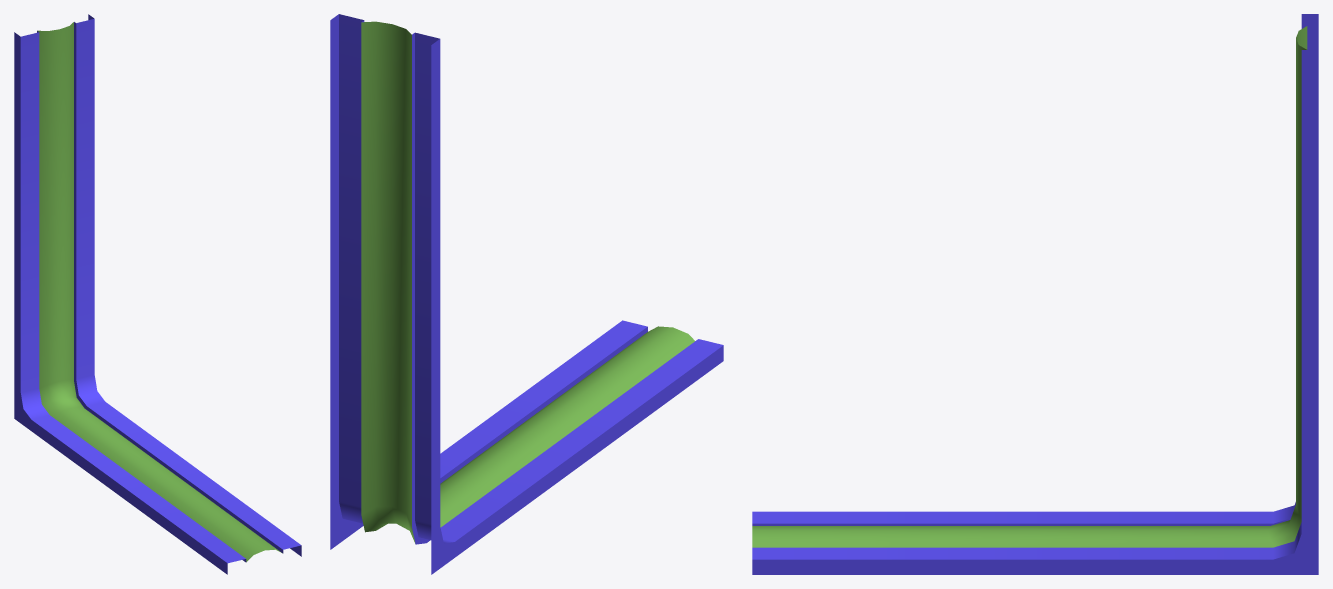
Rendered from PowerCable_WallCornerTransition_01.FBX.
The picture shows the model from 3 angles, left to right: view 1: azimuth 30°, elevation 25°; view 2: azimuth 150°, elevation 25°; view 3: azimuth 270°, elevation 25°; orthographic projection. The views are drawn at different scales.
Visible parts, largest first — view 1: PowerCable_WallCornerTransition_01; view 2: PowerCable_WallCornerTransition_01; view 3: PowerCable_WallCornerTransition_01.
Boxes of the visible parts, x1,y1,x2,y2 form: PowerCable_WallCornerTransition_01: [14, 14, 301, 574]; PowerCable_WallCornerTransition_01: [330, 14, 723, 574]; PowerCable_WallCornerTransition_01: [752, 14, 1318, 574].
Bounding box in the file's own units: 0.2 × 1 × 1.
